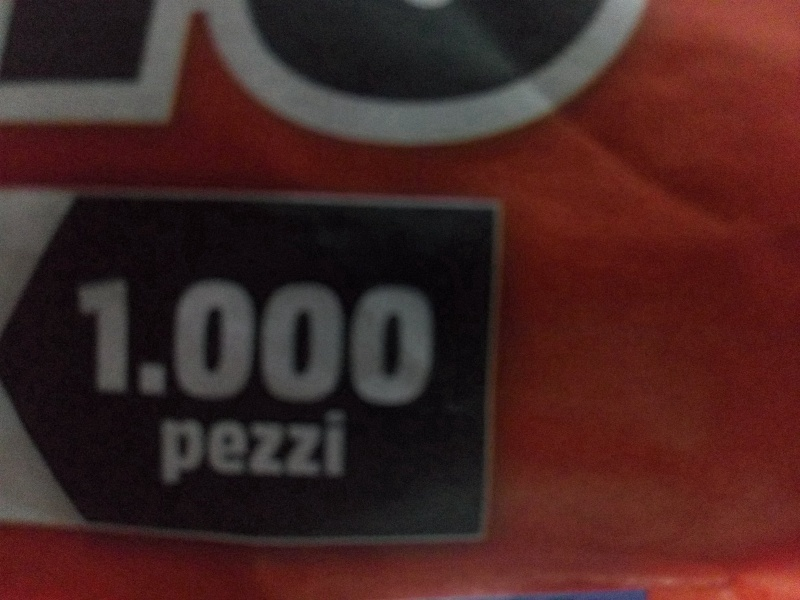text: (81, 278, 96, 414), (97, 278, 112, 414), (113, 278, 128, 414), (129, 278, 144, 414), (145, 278, 160, 414), (161, 278, 176, 414), (177, 278, 192, 414), (193, 278, 208, 414), (209, 278, 224, 414), (225, 278, 240, 414), (241, 278, 256, 414), (257, 278, 272, 414), (273, 278, 288, 414), (289, 278, 304, 414), (305, 278, 320, 414), (321, 278, 336, 414), (337, 278, 352, 414), (353, 278, 368, 414), (369, 278, 384, 414), (385, 278, 400, 414), (401, 278, 416, 414), (417, 278, 432, 414), (177, 409, 192, 490), (193, 409, 208, 490), (209, 409, 224, 490), (225, 409, 240, 490), (241, 409, 256, 490), (257, 409, 272, 490), (273, 409, 288, 490), (289, 409, 304, 490), (305, 409, 320, 490), (321, 409, 336, 490), (164, 409, 176, 490), (337, 409, 347, 490), (79, 278, 80, 414), (433, 278, 434, 414)
